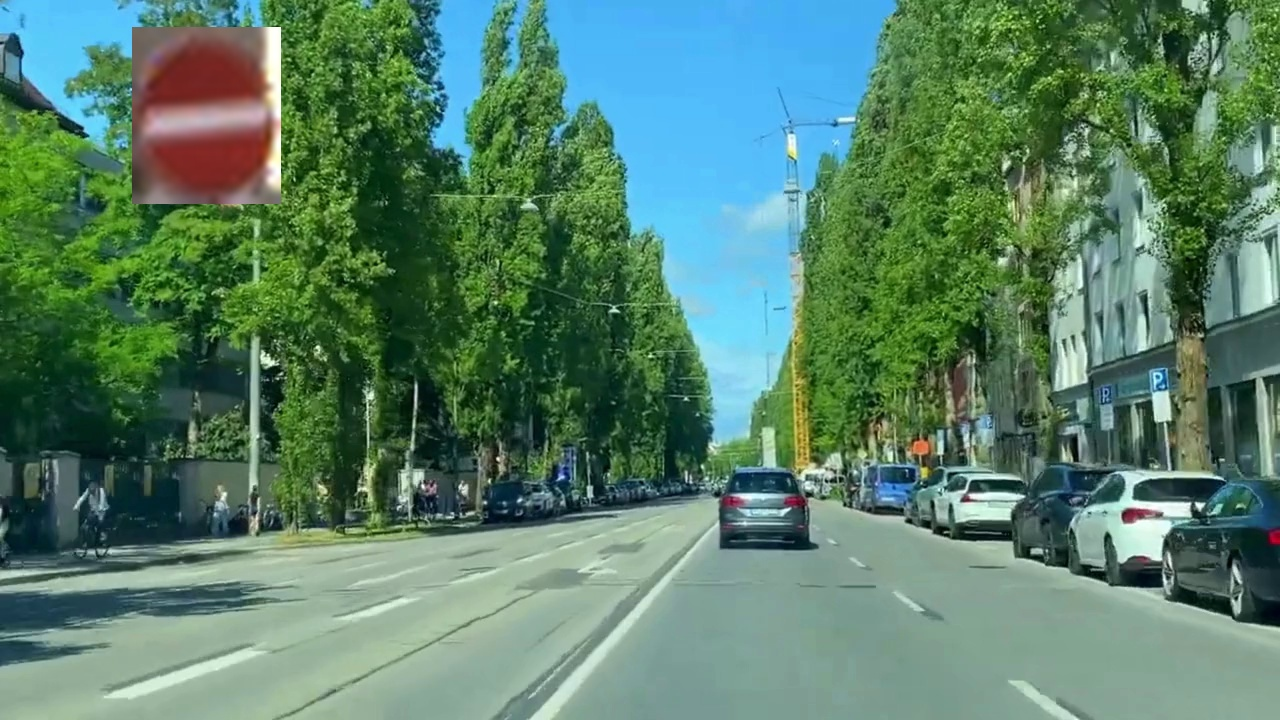No entry: (132, 27, 281, 204)
